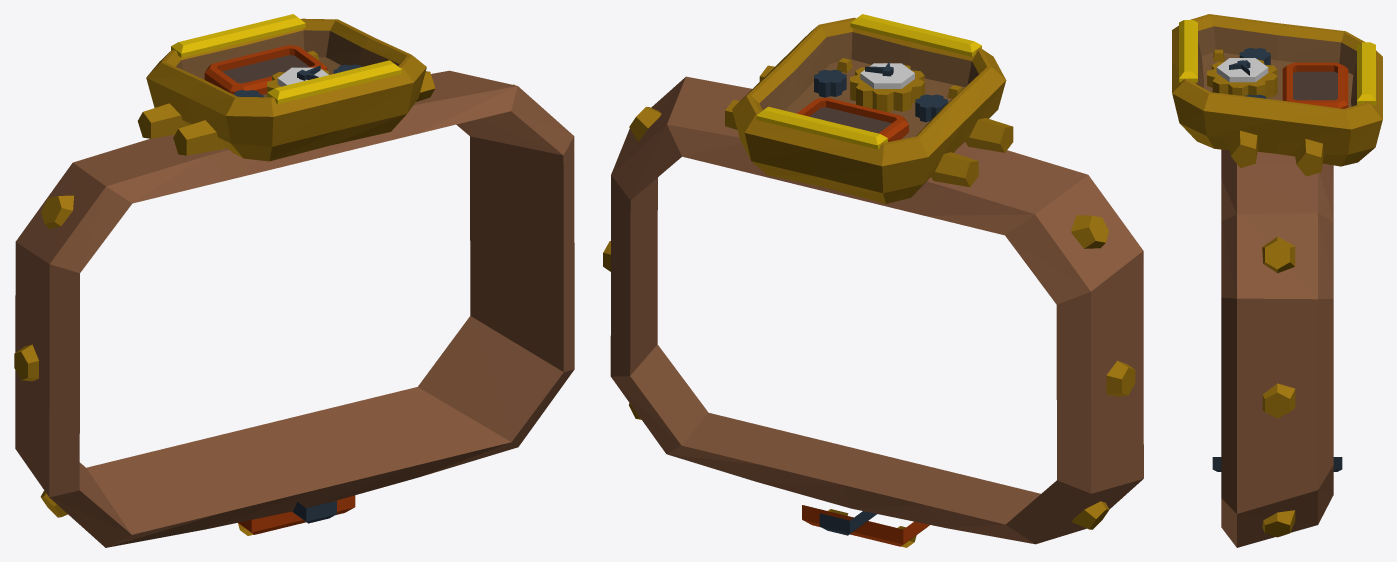
Rendered from decorative-bracelet-clasp-e4cc0a.glb.
3 renders of one model, left to right at view 1: azimuth 30°, elevation 25°; view 2: azimuth 150°, elevation 25°; view 3: azimuth 270°, elevation 25°, orthographic. The views are drawn at different scales.
Parts seen in each view (by area): view 1: wrist; view 2: wrist; view 3: wrist.
Part boxes in pixels (x1=…): wrist: x1=14, y1=14, x2=574, y2=547; wrist: x1=603, y1=14, x2=1143, y2=547; wrist: x1=1172, y1=14, x2=1382, y2=547.
Size of the model in its own units: 0.0656 by 0.0569 by 0.0244.
